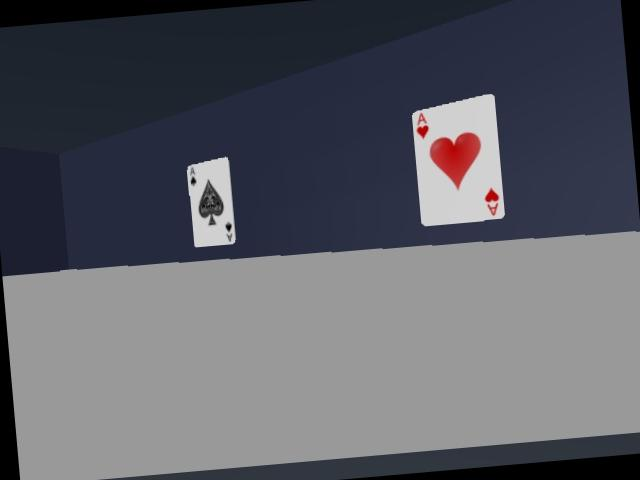heart: (412, 94, 504, 225)
spade: (187, 157, 235, 246)
